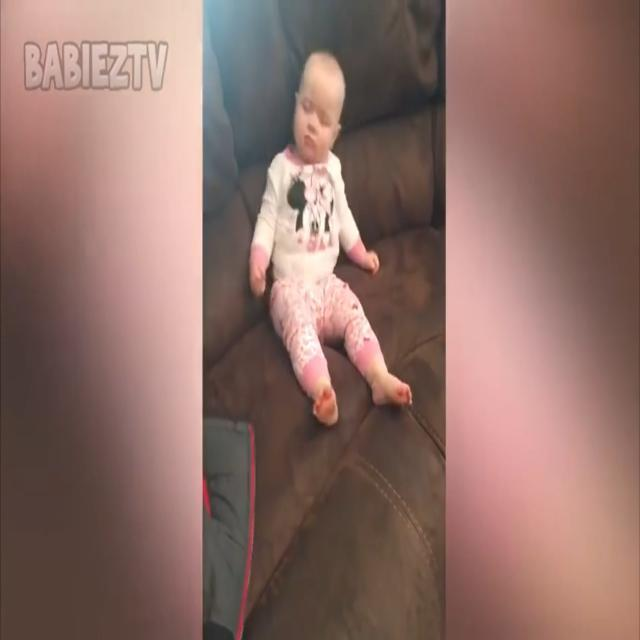child: (250, 55, 413, 423)
